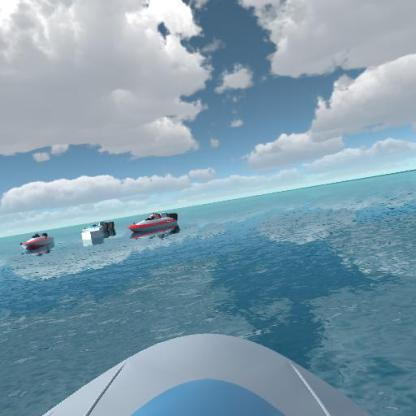usv1: (79, 218, 118, 239)
usv3: (125, 209, 183, 240), (16, 229, 57, 255)
